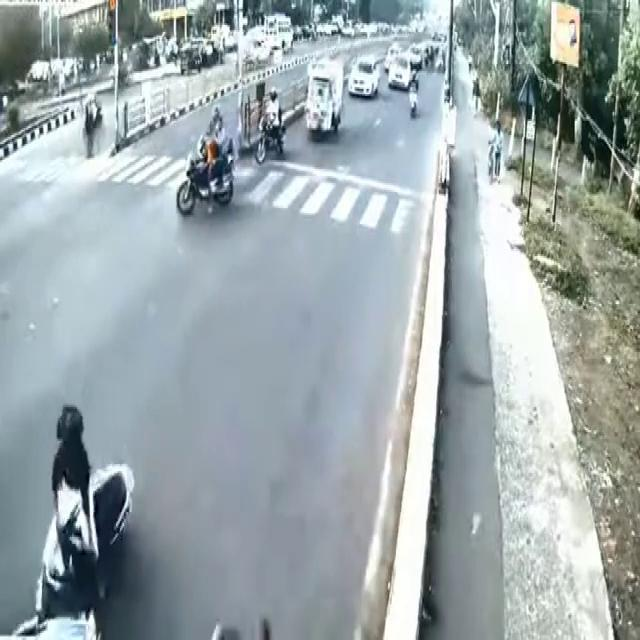accident: (4, 378, 152, 640)
